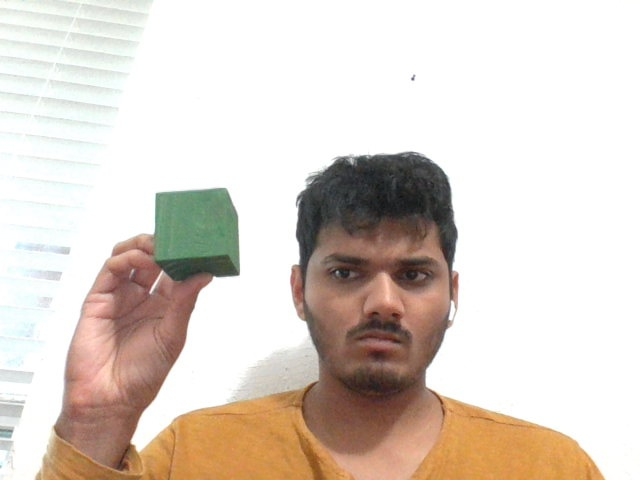GreenBlock: (154, 188, 240, 280)
